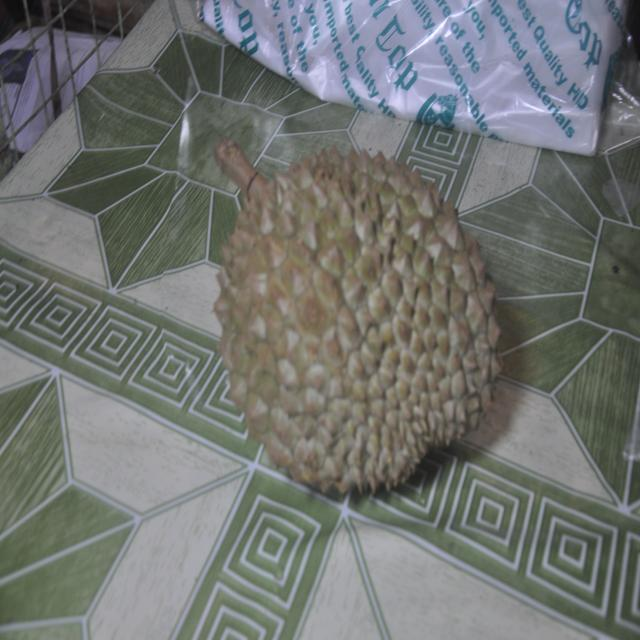mature: (214, 138, 500, 499)
